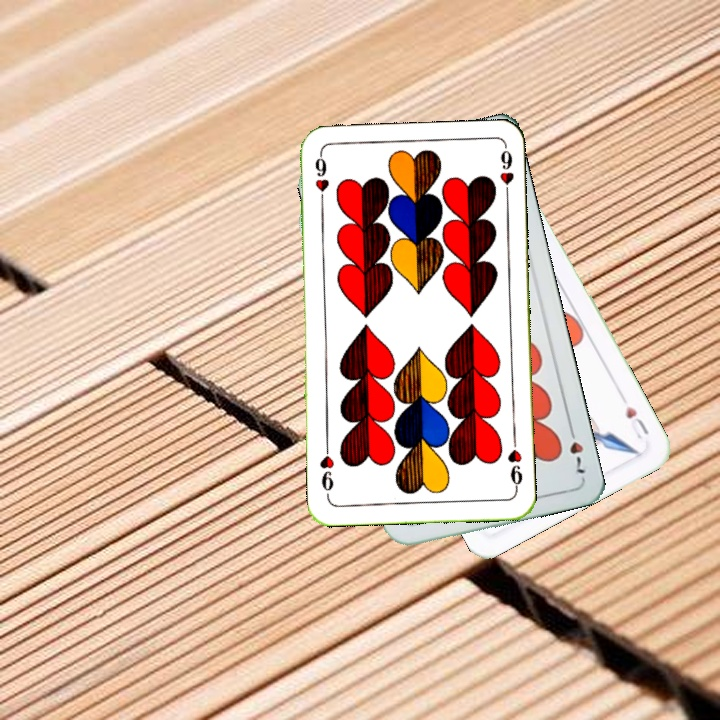H7: (565, 421, 588, 476)
H9: (504, 435, 526, 494), (311, 151, 331, 210)
HU: (622, 402, 652, 442)
